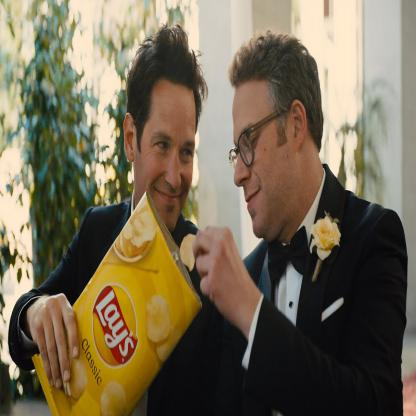potatochip: (32, 192, 200, 415)
